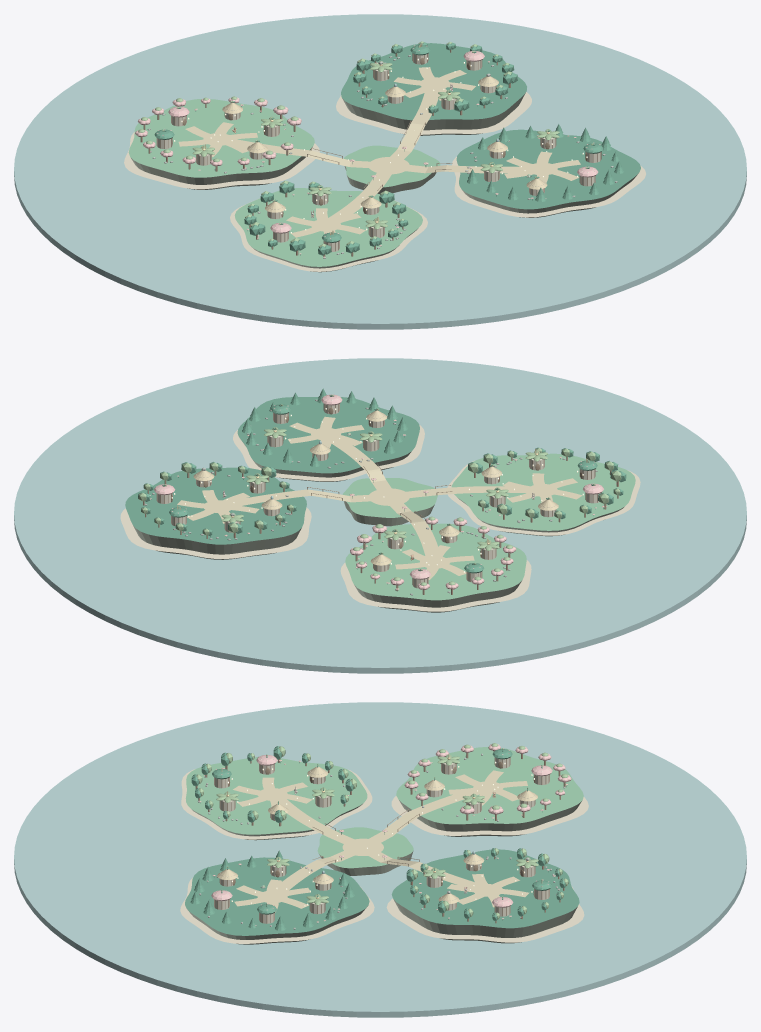
Rendered from grade1-terrain.glb.
The picture shows the model from 3 angles, top to bottom: view 1: azimuth 30°, elevation 25°; view 2: azimuth 150°, elevation 25°; view 3: azimuth 270°, elevation 25°; orthographic projection.
Parts seen in each view (by area): view 1: Nature_water, Walk_Nature_grass, Walk_Nature_deep, Walk_Nature_path, Nature_deep, Nature_sand, Nature_soil, Nature_cream, Nature_leaf, Nature_wood, Nature_flower, Nature_reed; view 2: Nature_water, Walk_Nature_grass, Walk_Nature_deep, Walk_Nature_path, Nature_sand, Nature_soil, Nature_leaf, Nature_deep, Nature_cream, Nature_wood, Nature_flower, Nature_reed; view 3: Nature_water, Walk_Nature_grass, Walk_Nature_deep, Walk_Nature_path, Nature_sand, Nature_soil, Nature_deep, Nature_cream, Nature_leaf, Nature_wood, Nature_flower, Nature_reed.
Boxes of the visible parts, x1,y1,x2,y2 form: Nature_water: (14, 14, 746, 329); Walk_Nature_grass: (128, 99, 440, 266); Walk_Nature_deep: (341, 43, 640, 209); Walk_Nature_path: (178, 67, 580, 237); Nature_deep: (154, 42, 623, 255); Nature_sand: (124, 92, 645, 271); Nature_soil: (131, 93, 638, 272); Nature_cream: (157, 51, 600, 251); Nature_leaf: (138, 41, 593, 247); Nature_wood: (140, 50, 601, 256); Nature_flower: (135, 44, 600, 257); Nature_reed: (222, 76, 547, 212); Nature_water: (14, 358, 746, 673); Walk_Nature_grass: (342, 453, 635, 600); Walk_Nature_deep: (125, 397, 419, 544); Walk_Nature_path: (177, 416, 582, 579); Nature_sand: (120, 425, 640, 611); Nature_soil: (133, 441, 623, 612); Nature_leaf: (138, 395, 621, 585); Nature_deep: (138, 388, 626, 591); Nature_cream: (157, 394, 600, 588); Nature_wood: (143, 404, 618, 594); Nature_flower: (150, 394, 616, 589); Nature_reed: (193, 410, 558, 565); Nature_water: (14, 702, 746, 1017); Walk_Nature_grass: (185, 746, 583, 868); Walk_Nature_deep: (185, 849, 579, 935); Walk_Nature_path: (233, 770, 529, 912); Nature_sand: (180, 769, 588, 943); Nature_soil: (187, 800, 581, 944); Nature_deep: (190, 746, 566, 930); Nature_cream: (214, 756, 549, 923); Nature_leaf: (196, 743, 568, 919); Nature_wood: (195, 751, 565, 923); Nature_flower: (199, 744, 571, 926); Nature_reed: (217, 766, 537, 903).
Bounding box in the file's own units: 170 × 10.98 × 170.
